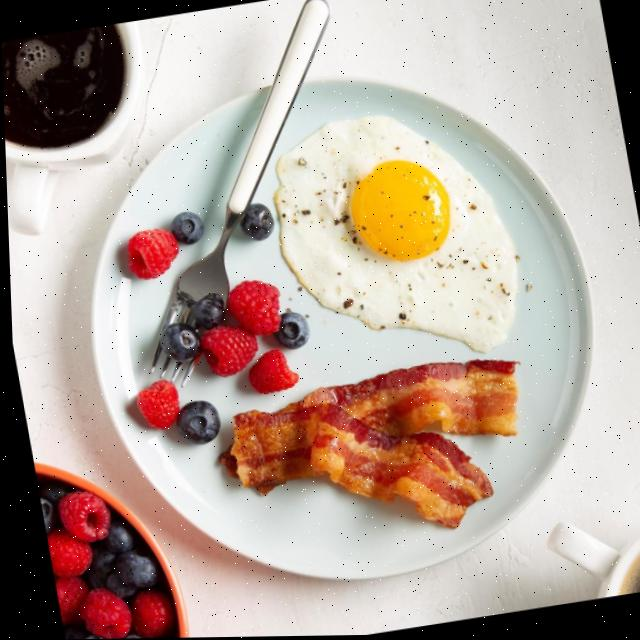Egg: (272, 117, 516, 353)
